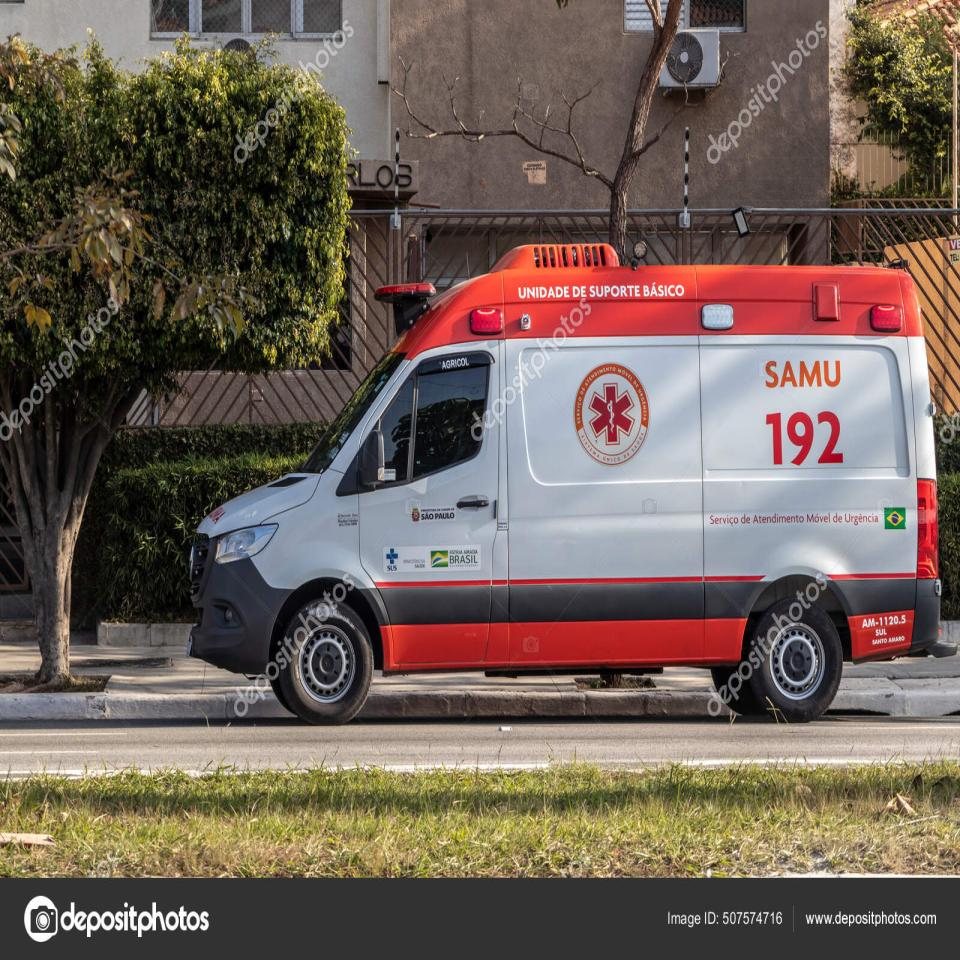bombeiro: (183, 238, 945, 730)
